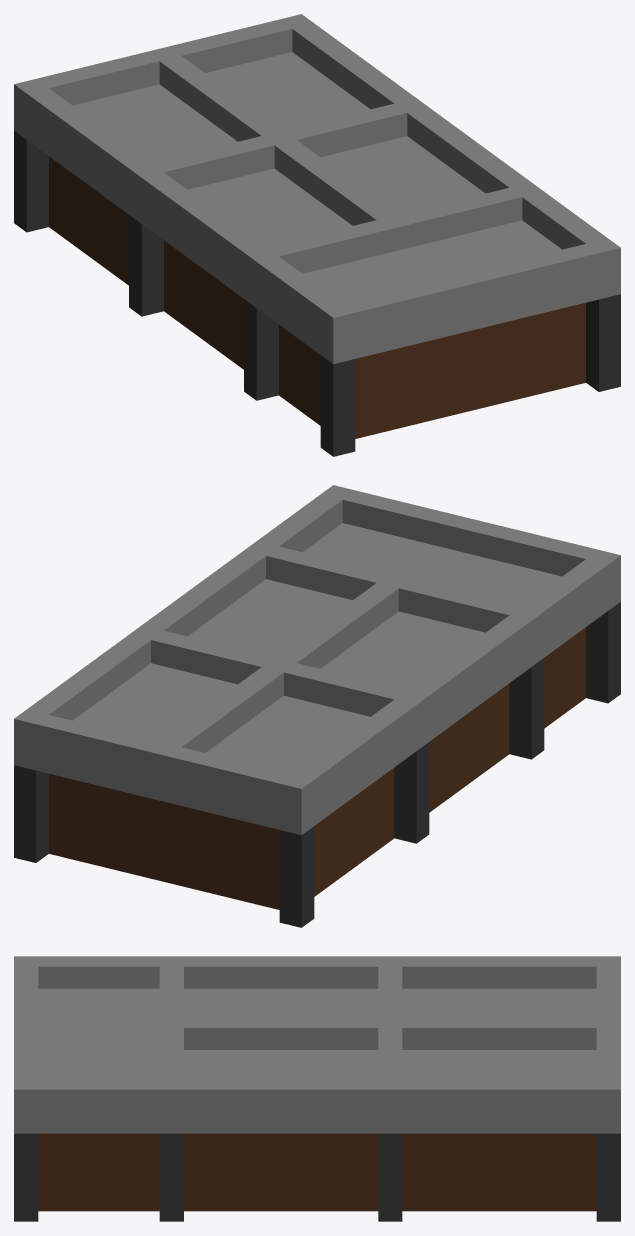
The model's file is vegetable_display.obj.
3 renders of one model, top to bottom at view 1: azimuth 30°, elevation 25°; view 2: azimuth 150°, elevation 25°; view 3: azimuth 270°, elevation 25°, orthographic. The views are drawn at different scales.
Size of the model in its own units: 1.3 by 0.6 by 2.5.
Materials: 1 (1 with a texture image).
